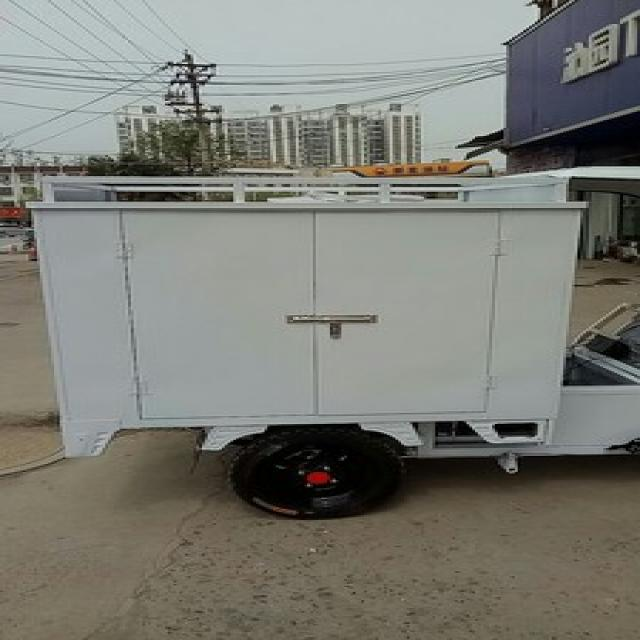pole: (182, 51, 211, 171)
tricycle: (23, 162, 631, 520)
